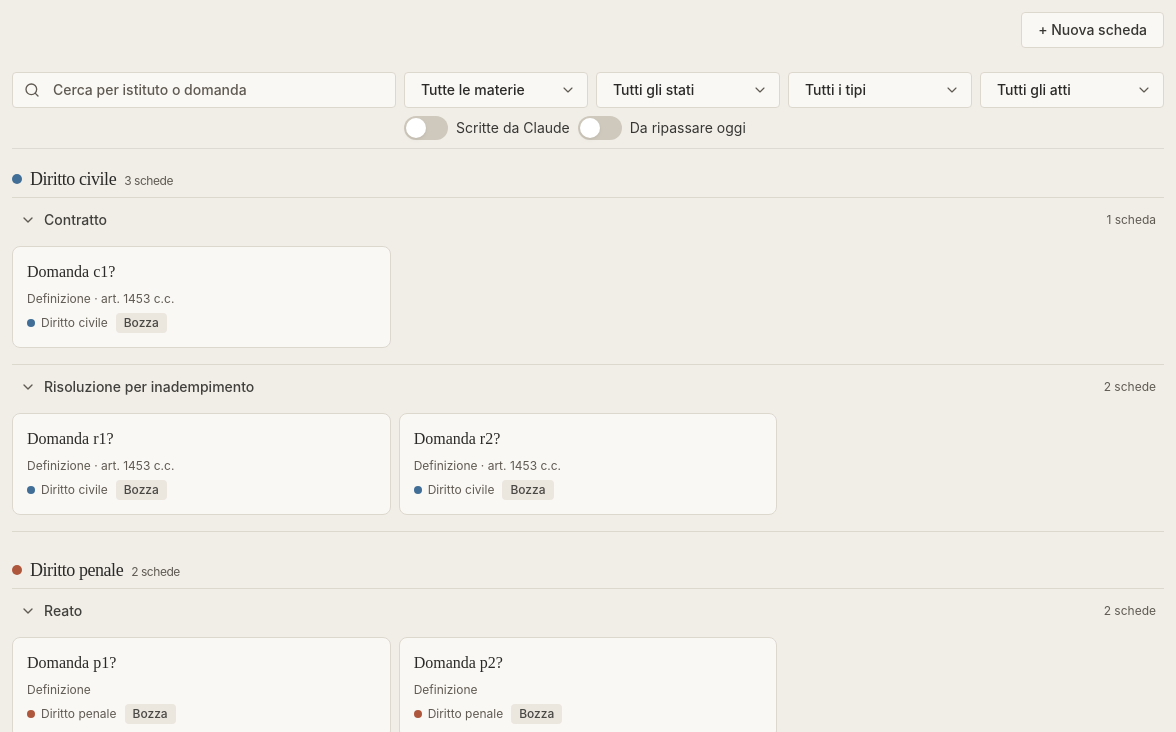
Test: «Le mie schede», the list › folds an institute shut from its heading
Click the button "Reato 2 schede": click(63, 610) [12, 589, 1164, 633]
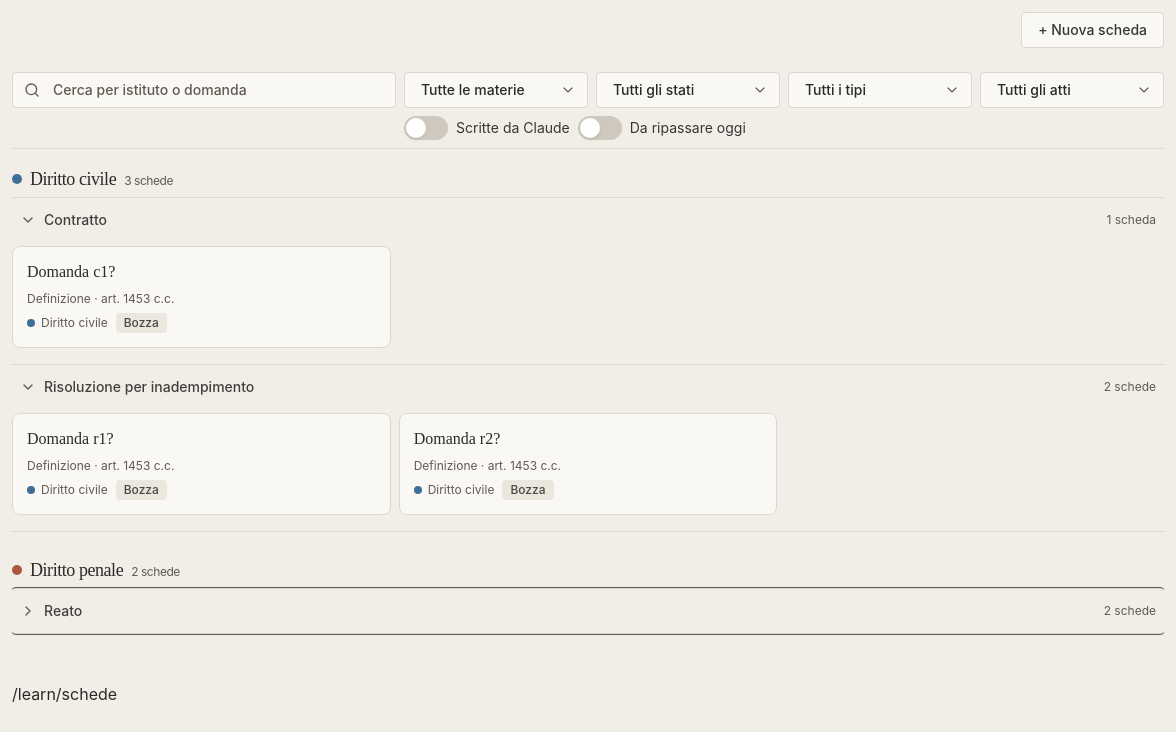
Expected: the number of links is 3, [12, 246, 391, 348]; [12, 413, 391, 515]; [399, 413, 777, 515]
Expected: the button "Reato 2 schede" is collapsed, [12, 589, 1164, 633]
